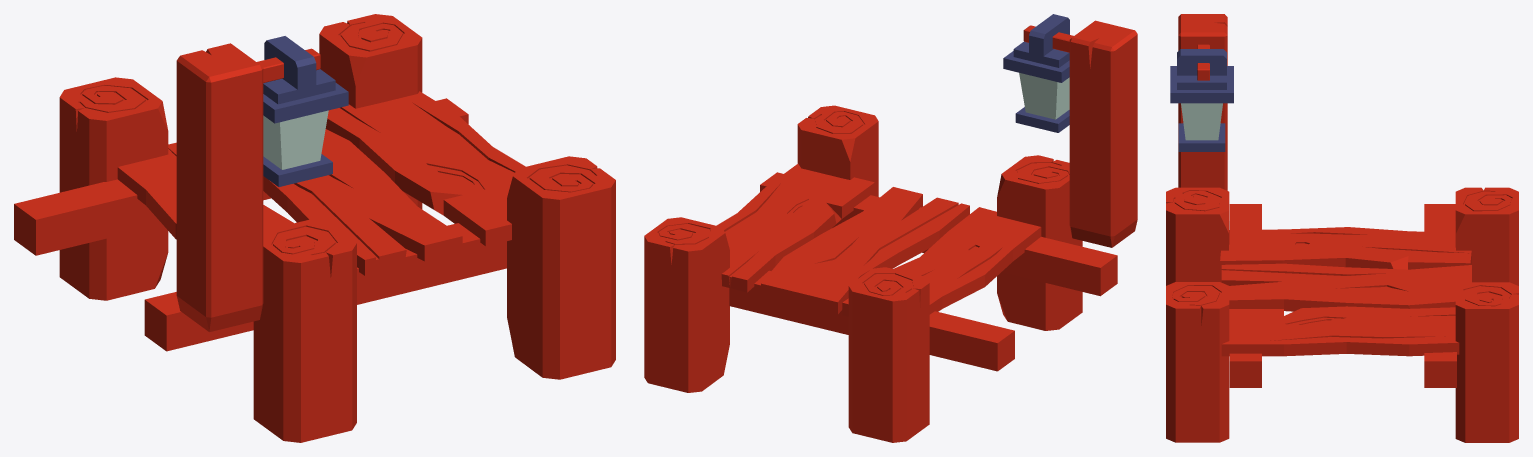
The model's file is ponte.fbx.
3 views of the same model, side by side, from view 1: azimuth 30°, elevation 25°; view 2: azimuth 150°, elevation 25°; view 3: azimuth 270°, elevation 25° (orthographic). The views are drawn at different scales.
Parts seen in each view (by area): view 1: Cubo.046, Cubo.045, Cubo.044, Cubo.043, Cubo.038, Cubo.041, Cubo.047, Cubo, Cubo.039, Cubo.040, Cubo.042, Cubo.048; view 2: Cubo.046, Cubo, Cubo.043, Cubo.041, Cubo.038, Cubo.044, Cubo.042, Cubo.040, Cubo.045, Cubo.047, Cubo.039; view 3: Cubo.038, Cubo.045, Cubo, Cubo.041, Cubo.042, Cubo.044, Cubo.043, Cubo.047, Cubo.046, Cubo.040, Cubo.039.
Boxes of the visible parts, box(x1,y1,x2,y2) form: Cubo.046: box(176, 43, 263, 332); Cubo.045: box(507, 156, 615, 379); Cubo.044: box(253, 219, 356, 442); Cubo.043: box(59, 77, 168, 300); Cubo.038: box(325, 91, 525, 246); Cubo.041: box(263, 129, 462, 275); Cubo.047: box(263, 36, 348, 186); Cubo: box(319, 14, 422, 209); Cubo.039: box(144, 223, 506, 351); Cubo.040: box(14, 98, 468, 255); Cubo.042: box(117, 142, 293, 239); Cubo.048: box(257, 48, 320, 82); Cubo.046: box(1069, 20, 1137, 247); Cubo: box(644, 217, 729, 392); Cubo.043: box(848, 267, 929, 442); Cubo.041: box(761, 187, 969, 314); Cubo.038: box(716, 164, 874, 292); Cubo.044: box(997, 155, 1082, 330); Cubo.042: box(842, 207, 1041, 316); Cubo.040: box(729, 270, 1014, 371); Cubo.045: box(797, 105, 878, 196); Cubo.047: box(1003, 14, 1069, 132); Cubo.039: box(760, 172, 1117, 296); Cubo.038: box(1221, 306, 1459, 356); Cubo.045: box(1166, 282, 1229, 442); Cubo: box(1455, 282, 1518, 442); Cubo.041: box(1221, 263, 1471, 311); Cubo.042: box(1220, 227, 1471, 272); Cubo.044: box(1166, 187, 1229, 285); Cubo.043: box(1455, 187, 1518, 285); Cubo.047: box(1170, 49, 1233, 151); Cubo.046: box(1178, 14, 1227, 190); Cubo.040: box(1424, 204, 1456, 387); Cubo.039: box(1229, 204, 1261, 387).
Bounding box in the file's own units: 744 × 622 × 705.
